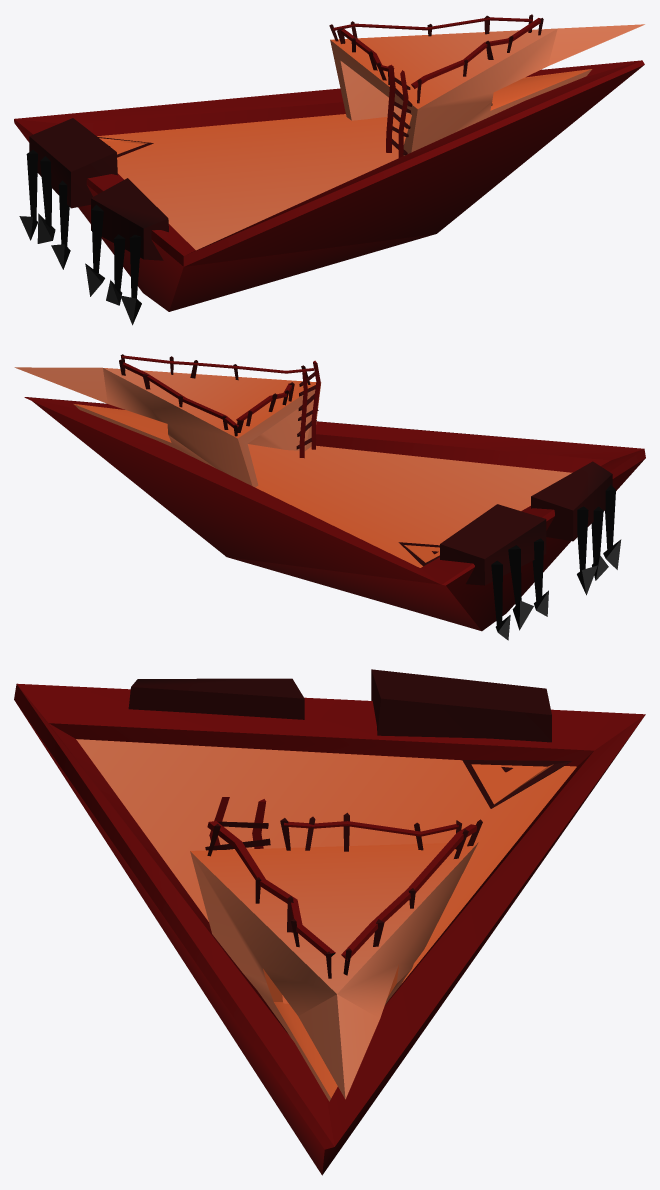
Rendered from c_boat_big_aa.fbx.
3 views of the same model, one above another, from view 1: azimuth 30°, elevation 25°; view 2: azimuth 150°, elevation 25°; view 3: azimuth 270°, elevation 25° (orthographic). The views are drawn at different scales.
Parts seen in each view (by area): view 1: c_boat_big_aa; view 2: c_boat_big_aa; view 3: c_boat_big_aa.
Boxes of the visible parts, <box> form: c_boat_big_aa: <box>14,14,644,325</box>; c_boat_big_aa: <box>14,354,645,640</box>; c_boat_big_aa: <box>14,669,645,1175</box>.
Bounding box in the file's own units: 30.09 × 9.91 × 17.29.
